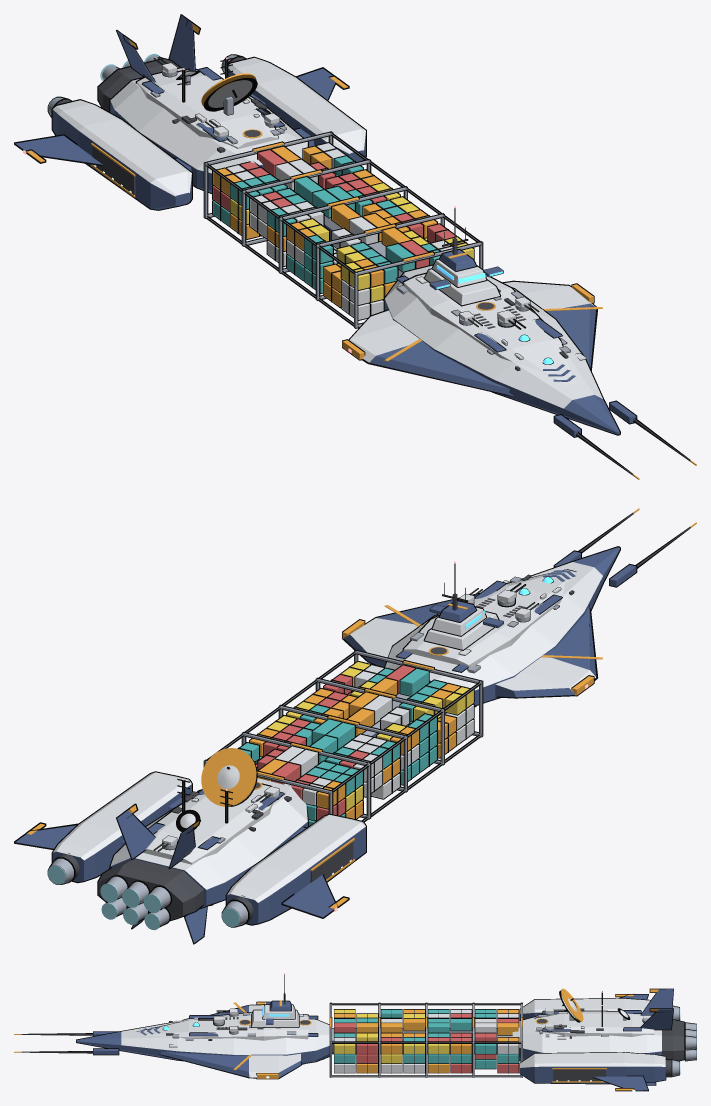
File: Cruiser_Explorer.fbx
3 views of the same model, one above another, from view 1: azimuth 30°, elevation 25°; view 2: azimuth 150°, elevation 25°; view 3: azimuth 270°, elevation 25° (orthographic). The views are drawn at different scales.
Parts seen in each view (by area): view 1: Hull_Fwd, Sponson_L, Cargo_Bay0, Hull_FwdDeck, Hull_Aft, Cargo_Bay3, Sponson_R, Cargo_Bay1, Cargo_Bay2, Delta_L, Hull_AftDeck, Delta_R (+12 smaller); view 2: Hull_Fwd, Sponson_L, Hull_Aft, Sponson_R, Cargo_Bay0, Cargo_Bay2, Cargo_Bay1, Cargo_Bay3, Hull_FwdDeck, Delta_L, Hull_AftDeck, Engine_Block (+13 smaller); view 3: Hull_Fwd, Sponson_R, Hull_Aft, Cargo_Bay2, Cargo_Bay1, Cargo_Bay0, Cargo_Bay3, Hull_FwdDeck, Delta_R, Hull_AftDeck, Sponson_L, Engine_Block (+18 smaller).
Boxes of the visible parts, x1,y1,x2,y2 form: Hull_Fwd: [383, 264, 620, 435]; Sponson_L: [51, 99, 192, 210]; Cargo_Bay0: [323, 223, 474, 320]; Hull_FwdDeck: [402, 272, 574, 385]; Hull_Aft: [109, 77, 308, 193]; Cargo_Bay3: [212, 142, 363, 239]; Sponson_R: [228, 56, 366, 161]; Cargo_Bay1: [286, 196, 437, 293]; Cargo_Bay2: [249, 169, 400, 266]; Delta_L: [342, 309, 513, 396]; Hull_AftDeck: [135, 67, 278, 148]; Delta_R: [503, 280, 597, 370]; Hull_Fwd: [384, 546, 620, 706]; Sponson_L: [225, 813, 366, 925]; Hull_Aft: [109, 778, 308, 909]; Sponson_R: [51, 771, 192, 883]; Cargo_Bay0: [323, 661, 474, 758]; Cargo_Bay2: [249, 715, 400, 799]; Cargo_Bay1: [286, 688, 437, 785]; Cargo_Bay3: [237, 742, 363, 825]; Hull_FwdDeck: [402, 569, 576, 668]; Delta_L: [495, 604, 598, 698]; Hull_AftDeck: [143, 783, 273, 864]; Engine_Block: [97, 859, 203, 921]; Hull_Fwd: [76, 1019, 329, 1064]; Sponson_R: [519, 1052, 666, 1084]; Hull_Aft: [512, 1016, 661, 1061]; Cargo_Bay2: [428, 1009, 472, 1073]; Cargo_Bay1: [381, 1009, 425, 1073]; Cargo_Bay0: [334, 1009, 378, 1073]; Cargo_Bay3: [475, 1009, 519, 1073]; Hull_FwdDeck: [136, 1012, 308, 1040]; Delta_R: [159, 1051, 301, 1079]; Hull_AftDeck: [534, 1010, 654, 1036]; Sponson_L: [519, 998, 650, 1020]; Engine_Block: [662, 1019, 684, 1060].
Bounding box in the file's own units: 61 × 30.13 × 182.
